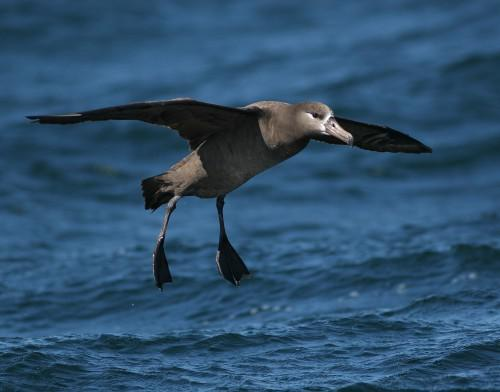001.Black_footed_Albatross: (24, 95, 433, 290)
